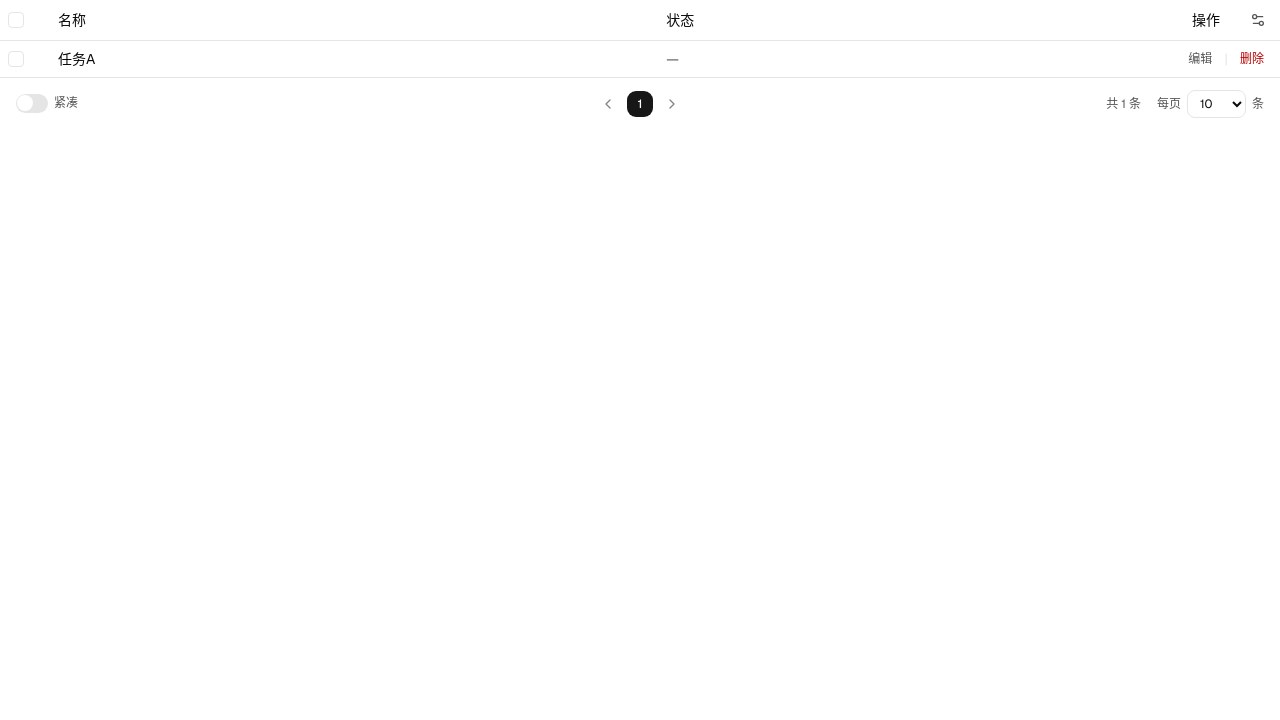
Test: ListView › 点击删除时应打开确认弹窗
The width and height of the screenshot is (1280, 720).
Click the button "删除".
click(1252, 58)  # box [1232,48,1272,68]
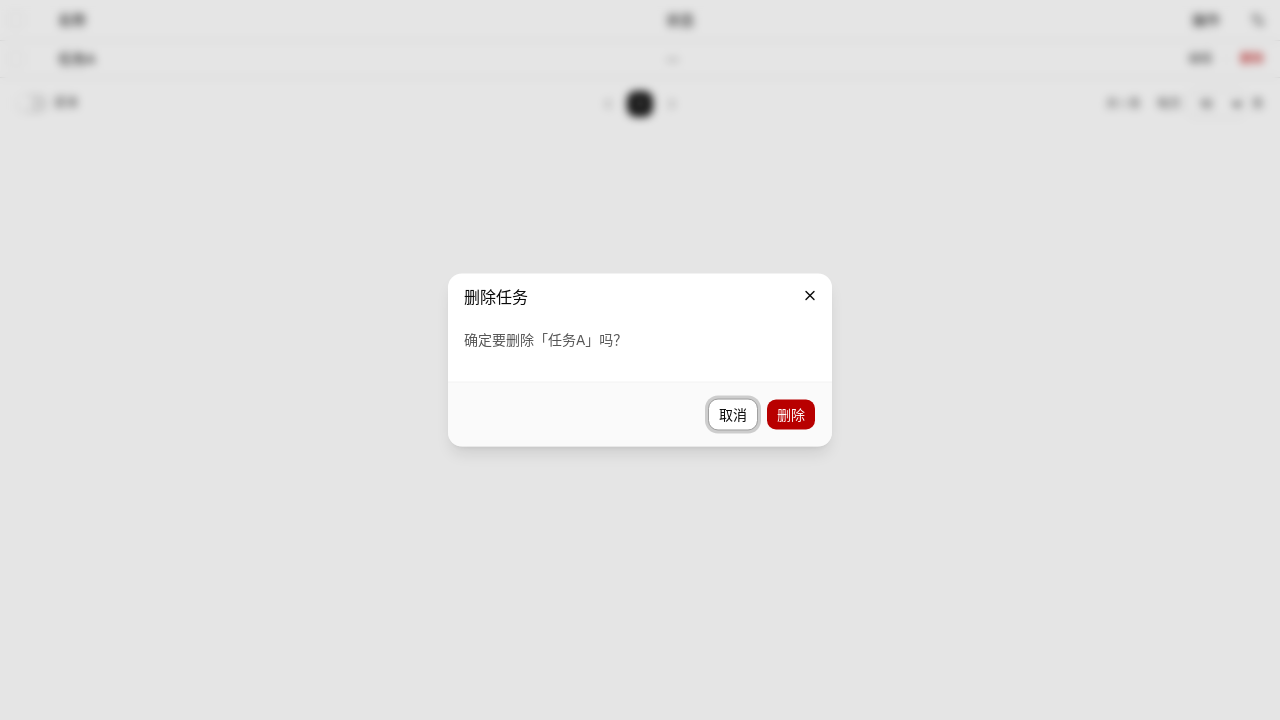
Expected: the heading "删除任务" is shown, [464,286,528,308]
Expected: the text "确定要删除「任务A」吗？" is shown, [464,330,627,348]
